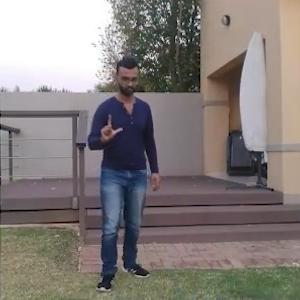land_hand: (93, 110, 124, 147)
